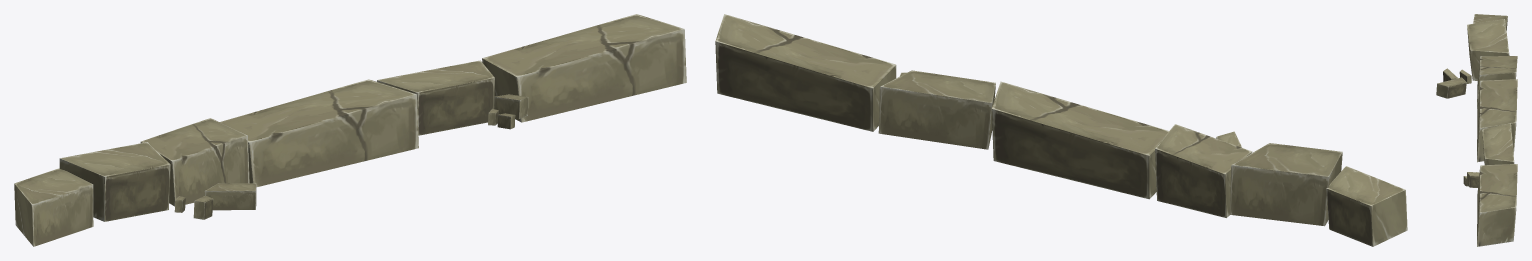
Rendered from wallrocks_base4.fbx.
The picture shows the model from 3 angles, left to right: view 1: azimuth 30°, elevation 25°; view 2: azimuth 150°, elevation 25°; view 3: azimuth 270°, elevation 25°; orthographic projection. The views are drawn at different scales.
Visible parts, largest first — view 1: rocks7; view 2: rocks7; view 3: rocks7.
Boxes of the visible parts, x1,y1,x2,y2 form: rocks7: (14,14,686,246); rocks7: (715,14,1407,246); rocks7: (1436,14,1517,246).
Bounding box in the file's own units: 1.97 × 0.1654 × 0.326.
